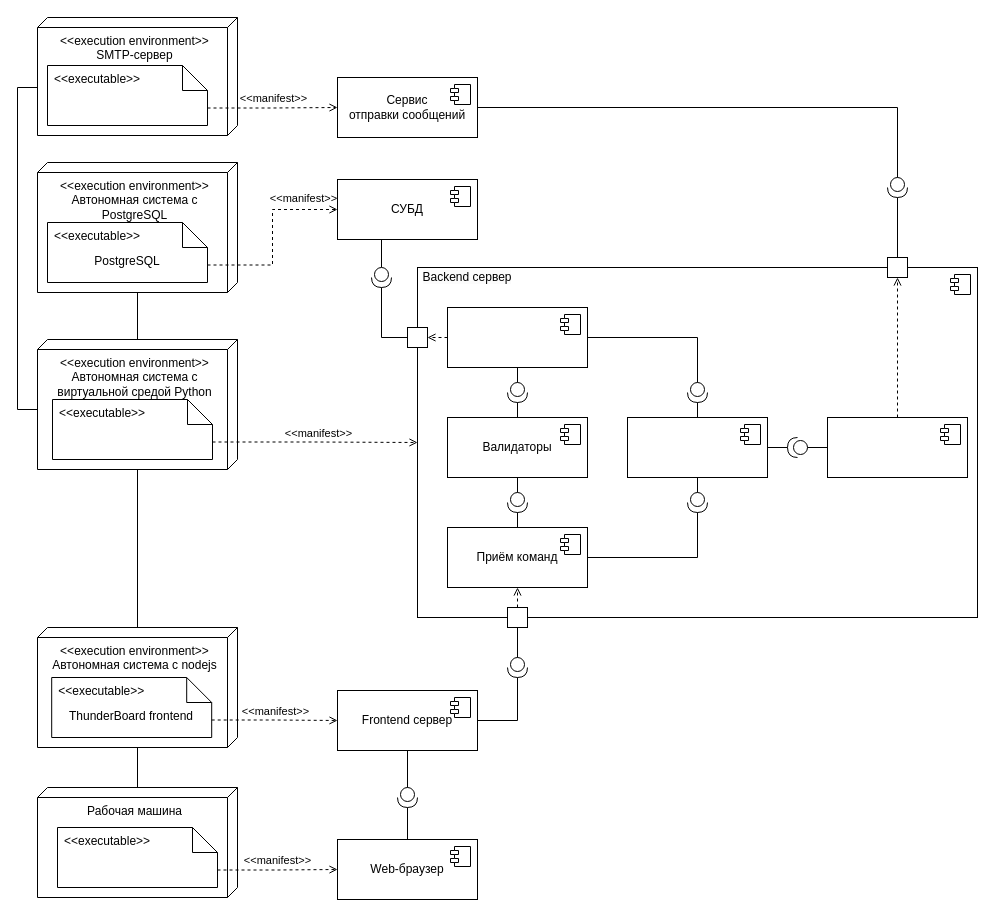
Some shapes in this 995 by 917 pixel diagram are drawn without their labels. Here are the shapes that lost their labels. From the top down, the centre of each, then its label:
[127,95]: Сервис электронной почты
[517,337]: Коннектор с базой данных
[132,429]: ThunderBoard backend
[697,447]: Обработчики команд
[897,447]: Компонент оповещения
[137,857]: Chromium/Firefox
